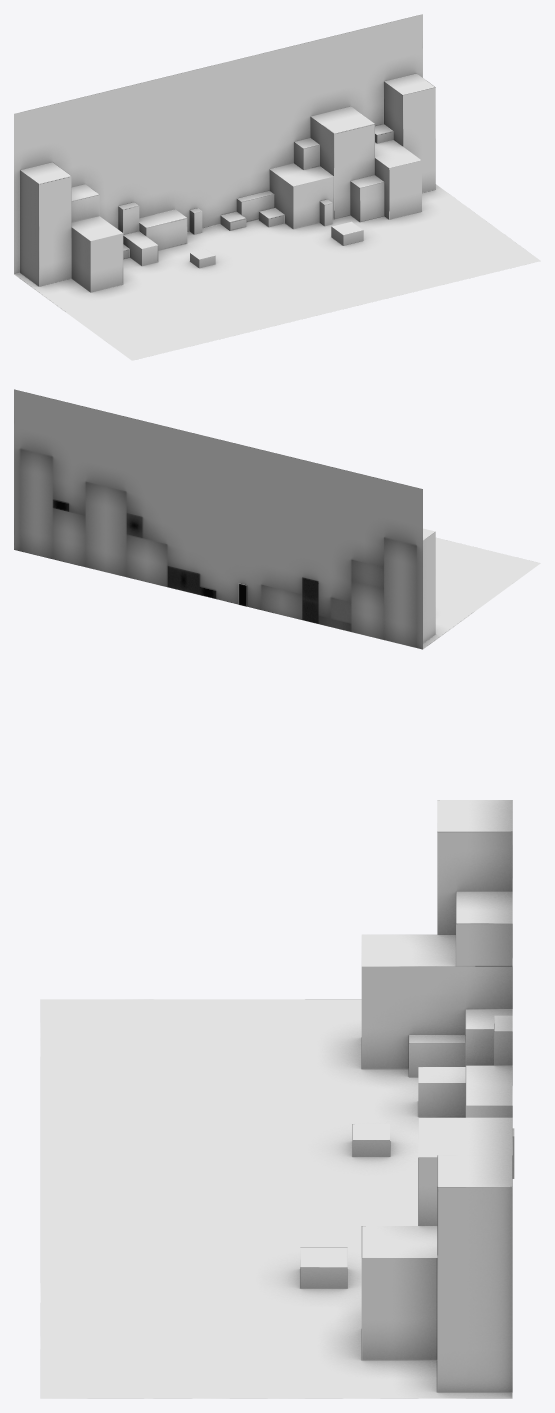
File: DisplayStage.fbx
3 renders of one model, top to bottom at view 1: azimuth 30°, elevation 25°; view 2: azimuth 150°, elevation 25°; view 3: azimuth 270°, elevation 25°, orthographic. The views are drawn at different scales.
Visible parts, largest first — view 1: Model; view 2: Model; view 3: Model.
Part boxes in pixels (bbox=[...]): Model: bbox=[14, 14, 540, 360]; Model: bbox=[14, 389, 540, 649]; Model: bbox=[40, 800, 514, 1398].
Bounding box in the file's own units: 20000 × 7500 × 10033.
Materials: 1 (1 with a texture image).
